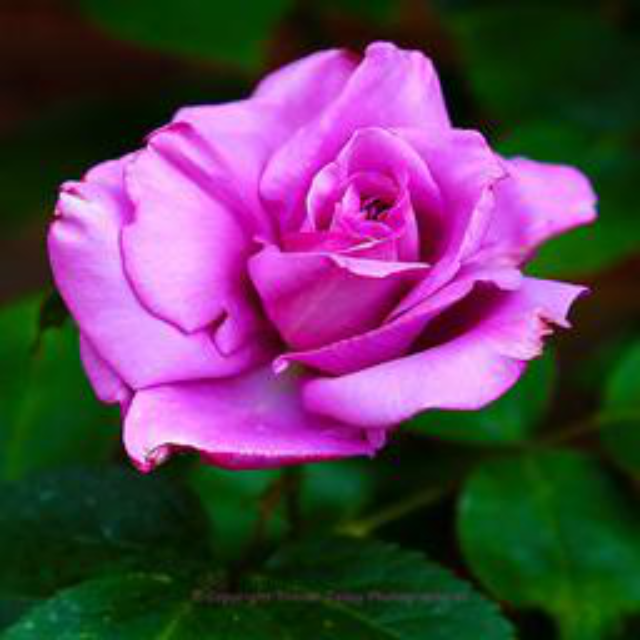rose: (41, 36, 601, 483)
